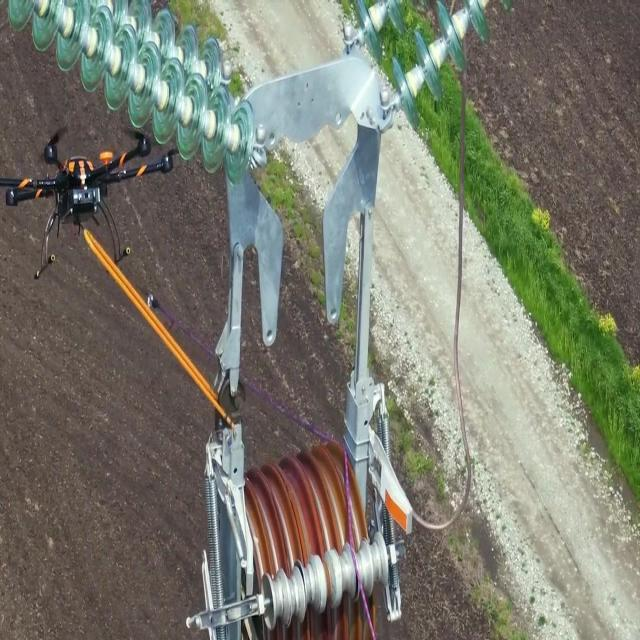drone: (8, 125, 176, 284)
